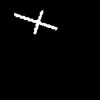single_crochet: (14, 10, 56, 33)
